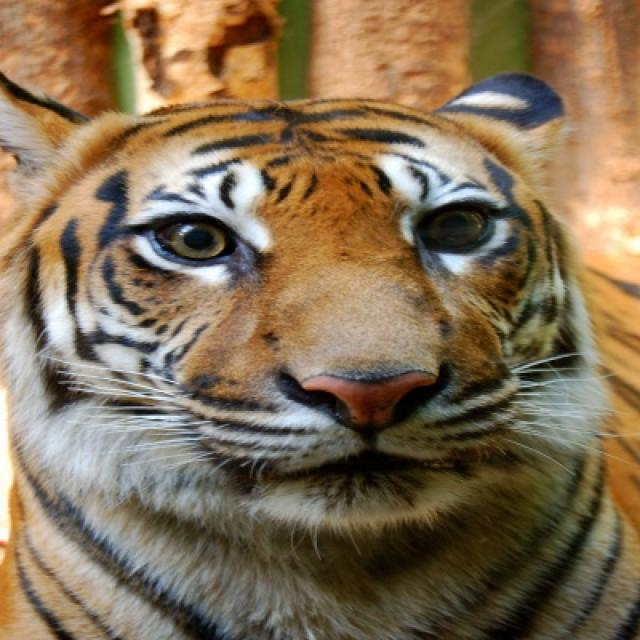Tiger: (0, 71, 638, 638)
